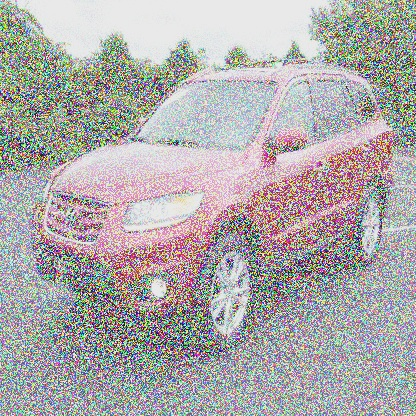Vehicle: (31, 57, 397, 347)
